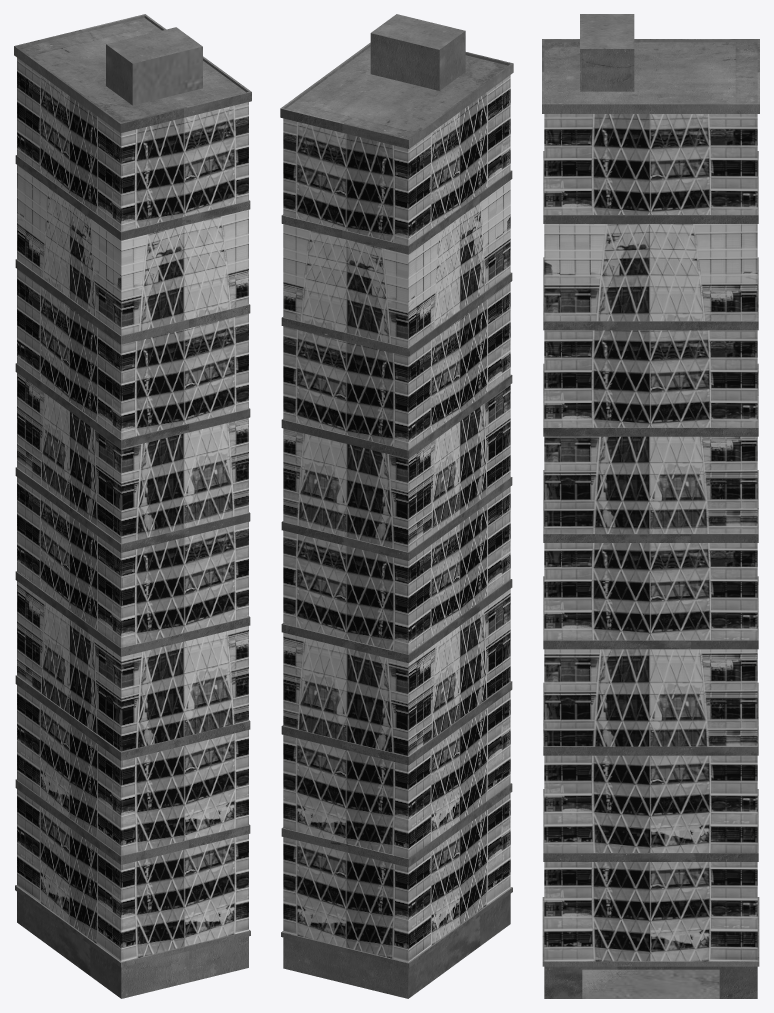
File: TOWER_07.fbx
3 renders of one model, left to right at view 1: azimuth 30°, elevation 25°; view 2: azimuth 150°, elevation 25°; view 3: azimuth 270°, elevation 25°, orthographic. The views are drawn at different scales.
Visible parts, largest first — view 1: TOWER_07; view 2: TOWER_07; view 3: TOWER_07.
Part boxes in pixels (x1,y1,x2,y2): TOWER_07: (14, 14, 251, 998); TOWER_07: (280, 14, 513, 998); TOWER_07: (542, 14, 759, 998).
Size of the model in its own units: 1355 by 9026 by 1905.
